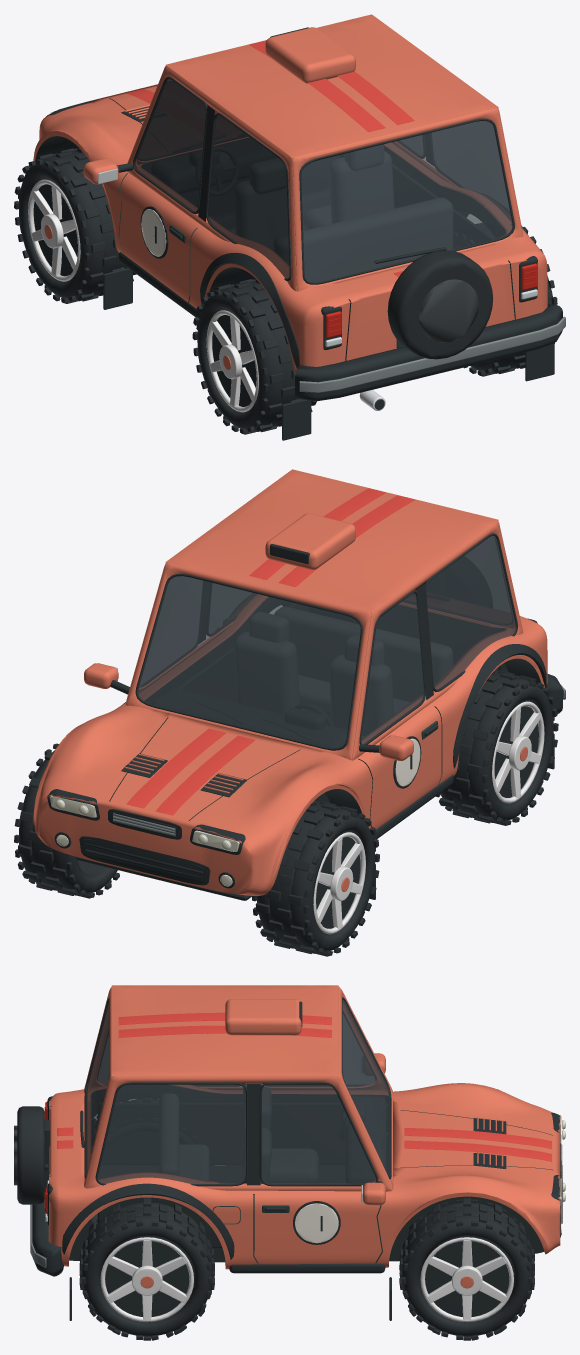
The model's file is sabaku_lod1.fbx.
The picture shows the model from 3 angles, top to bottom: view 1: azimuth 30°, elevation 25°; view 2: azimuth 150°, elevation 25°; view 3: azimuth 270°, elevation 25°; orthographic projection. The views are drawn at different scales.
Visible parts, largest first — view 1: Body, Wheel_RL_Mesh, Wheel_FL_Mesh, Wheel_RR_Mesh; view 2: Body, Wheel_FL_Mesh, Wheel_RL_Mesh, Wheel_FR_Mesh; view 3: Body, Wheel_FR_Mesh, Wheel_RR_Mesh, Wheel_RL_Mesh.
Part boxes in pixels (<box>): Body: <box>33,14,565,440</box>; Wheel_RL_Mesh: <box>192,279,316,434</box>; Wheel_FL_Mesh: <box>14,148,136,303</box>; Wheel_RR_Mesh: <box>453,223,557,376</box>; Body: <box>33,469,565,900</box>; Wheel_FL_Mesh: <box>252,801,379,956</box>; Wheel_RL_Mesh: <box>435,670,558,825</box>; Wheel_FR_Mesh: <box>14,743,119,898</box>; Body: <box>14,985,565,1320</box>; Wheel_FR_Mesh: <box>399,1198,534,1340</box>; Wheel_RR_Mesh: <box>79,1198,214,1340</box>; Wheel_RL_Mesh: <box>91,1098,211,1165</box>.
Bounding box in the file's own units: 244 × 218 × 404.
